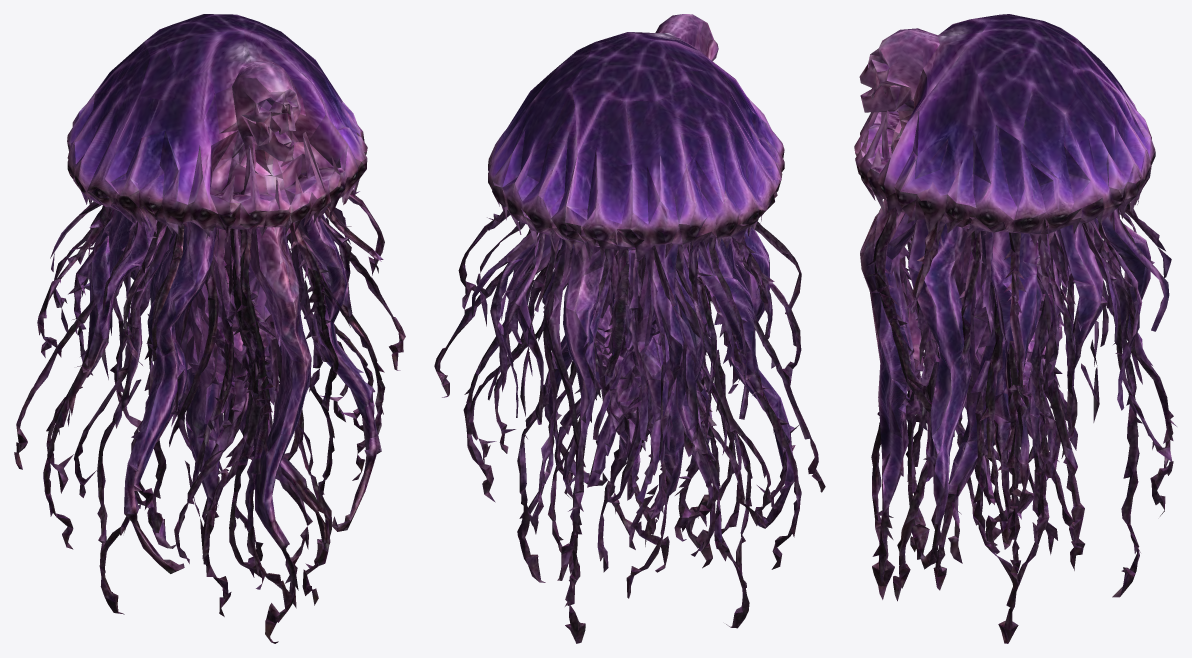
The model's file is lantern.glb.
The picture shows the model from 3 angles, left to right: view 1: azimuth 30°, elevation 25°; view 2: azimuth 150°, elevation 25°; view 3: azimuth 270°, elevation 25°; orthographic projection.
Parts seen in each view (by area): view 1: Mesh_0; view 2: Mesh_0; view 3: Mesh_0.
Part boxes in pixels (x1,y1,x2,y2): Mesh_0: (14,14,405,643); Mesh_0: (434,14,825,643); Mesh_0: (854,14,1176,643).
Bounding box in the file's own units: 1.35 × 1.88 × 0.9562.
1 material, 1 textured.
